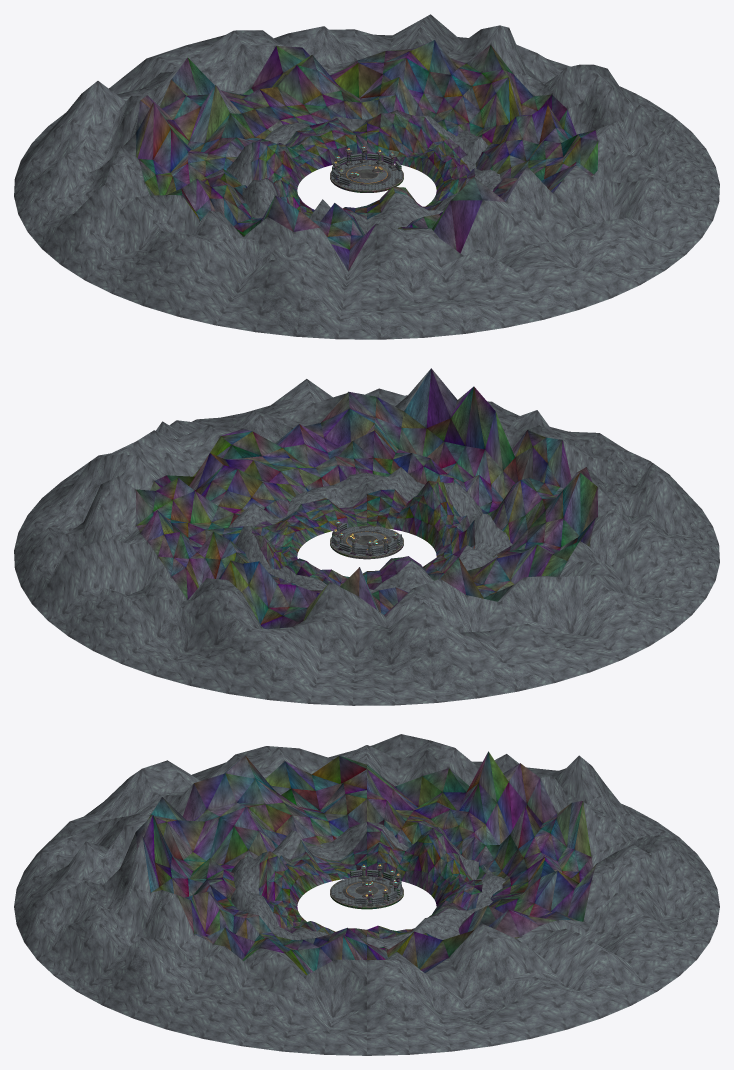
The model's file is arena.glb.
3 views of the same model, one above another, from view 1: azimuth 30°, elevation 25°; view 2: azimuth 150°, elevation 25°; view 3: azimuth 270°, elevation 25° (orthographic).
Visible parts, largest first — view 1: Glacial bedrock, Weathered granite, Basalt; view 2: Glacial bedrock, Weathered granite, Basalt; view 3: Glacial bedrock, Weathered granite, Basalt.
Part boxes in pixels (bbox=[...]): Glacial bedrock: bbox=[14, 14, 719, 339]; Weathered granite: bbox=[331, 147, 402, 190]; Basalt: bbox=[330, 160, 403, 192]; Glacial bedrock: bbox=[14, 368, 719, 705]; Weathered granite: bbox=[331, 522, 402, 556]; Basalt: bbox=[330, 526, 403, 559]; Glacial bedrock: bbox=[14, 734, 719, 1055]; Weathered granite: bbox=[331, 865, 402, 906]; Basalt: bbox=[330, 876, 403, 909].
Size of the model in its own units: 142 by 20.98 by 142.
7 materials, 5 textured.
